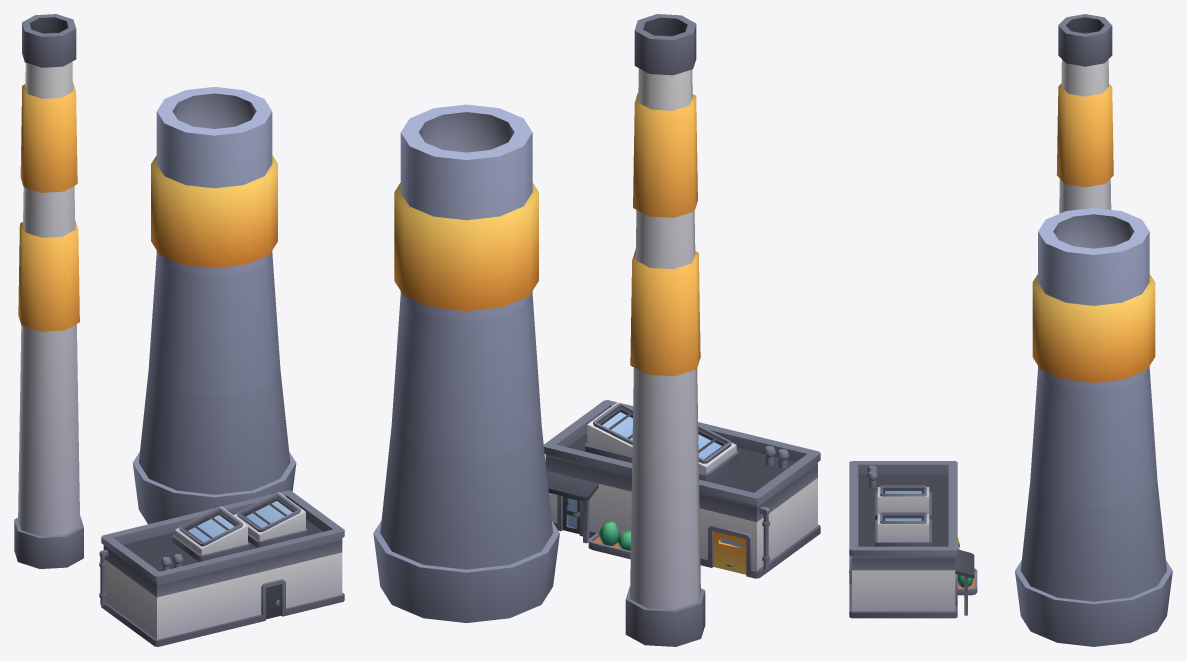
Rendered from plant_cooling.glb.
3 renders of one model, left to right at view 1: azimuth 30°, elevation 25°; view 2: azimuth 150°, elevation 25°; view 3: azimuth 270°, elevation 25°, orthographic. The views are drawn at different scales.
Parts seen in each view (by area): view 1: plant_cooling; view 2: plant_cooling; view 3: plant_cooling.
Boxes of the visible parts, bbox=[...] form: plant_cooling: bbox=[14, 14, 344, 646]; plant_cooling: bbox=[373, 14, 820, 646]; plant_cooling: bbox=[849, 14, 1172, 646].
Size of the model in its own units: 0.8803 by 1.64 by 0.94.
Materials: 4 (4 with a texture image).
